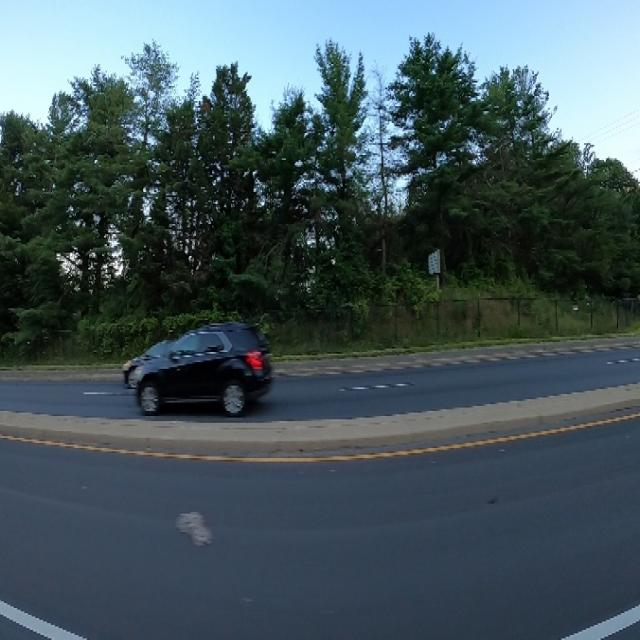cars: (140, 323, 271, 425), (119, 334, 192, 394)
